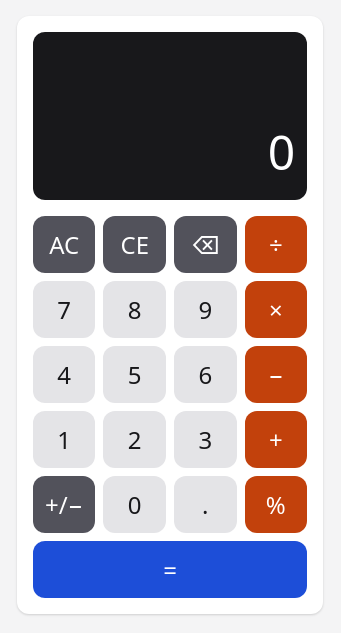
Scenario: correct a mistake without starting over (User Story 2) › delete removes the last digit
The width and height of the screenshot is (341, 633).
What coordinates should you click on to do the following:
click the button "1"
I would click on:
 (64, 440)
Its box is x1=33 y1=411 x2=95 y2=468.
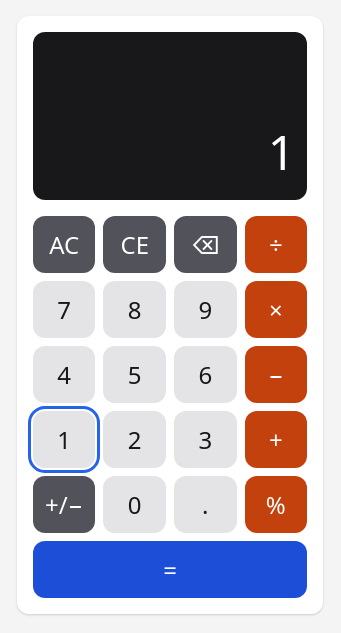
What coordinates should you click on to do the following:
click the button "2"
I would click on:
 (135, 440)
Its box is x1=104 y1=411 x2=166 y2=468.
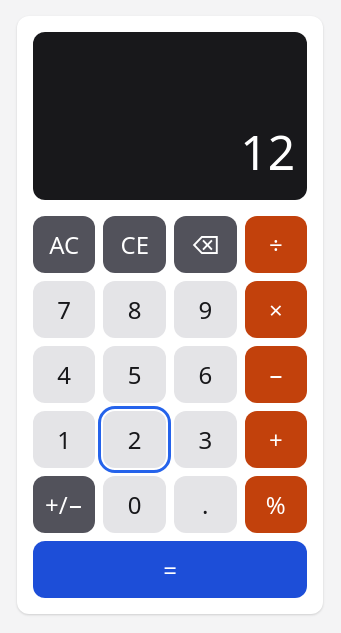
What coordinates should you click on to do the following:
click the button "3"
I would click on:
 (205, 440)
Its box is x1=174 y1=411 x2=236 y2=468.
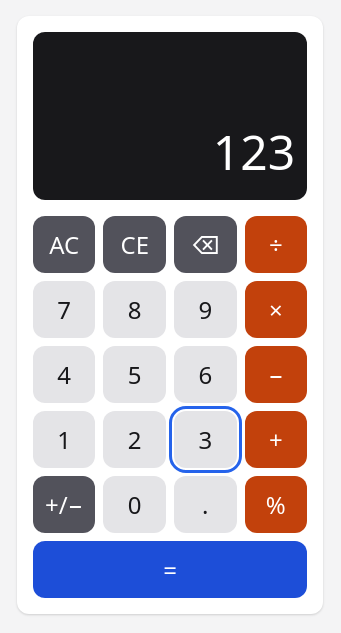
What coordinates should you click on to do the following:
click the button named "Delete last digit"
I would click on:
 (205, 244)
Its box is x1=174 y1=216 x2=236 y2=273.
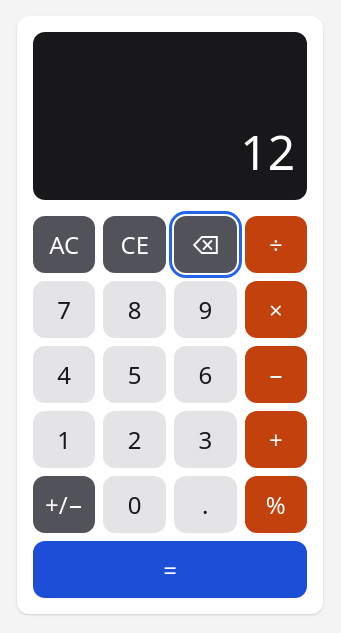
Check: the message reads "12", box x1=240 y1=119 x2=295 y2=184
